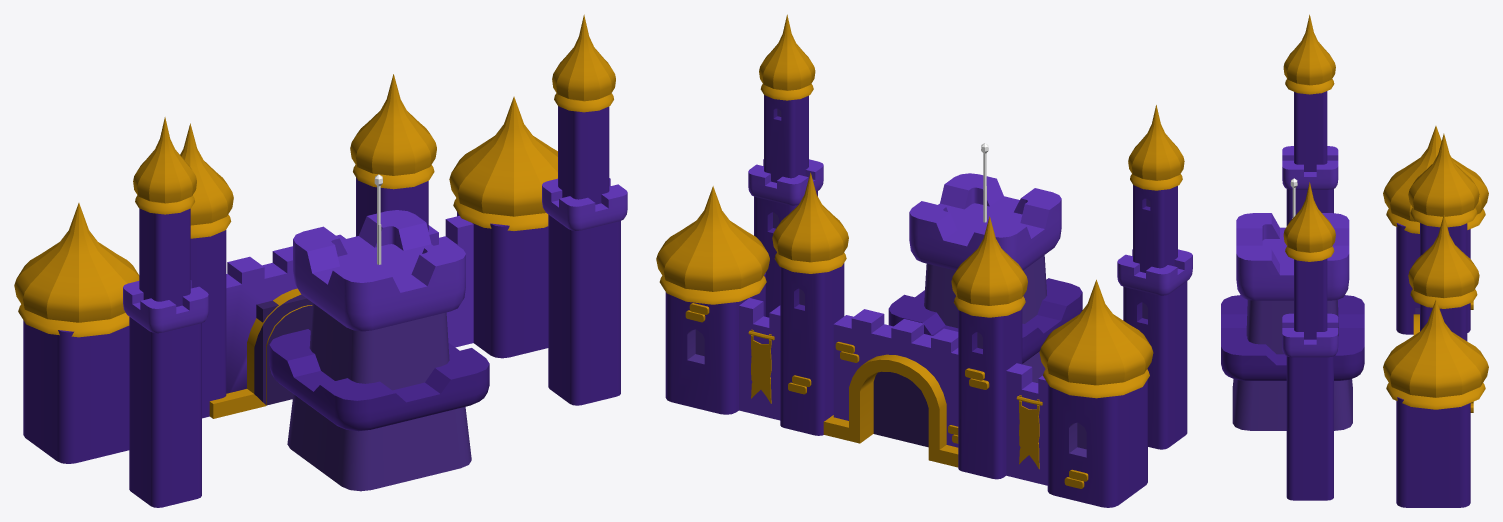
File: CubeCastle_02_3.fbx
The picture shows the model from 3 angles, left to right: view 1: azimuth 30°, elevation 25°; view 2: azimuth 150°, elevation 25°; view 3: azimuth 270°, elevation 25°; orthographic projection. The views are drawn at different scales.
Visible parts, largest first — view 1: CastleT8, CastleT8 (1), CastleT2 (2), CastleT6, CastleT6 (1), Cupol (7), CastleT2 (1), Cupol (8), CastleT1, Cupol (9), CastleT6 (6), CastleT6 (2) (+9 smaller); view 2: CastleT8, CastleT1, CastleT2 (2), CastleT6 (5), CastleT6 (6), Cupol (7), Cupol (8), CastleT2 (1), CastleT6, Cupol (10), Cupol (9), CastleT8 (1) (+12 smaller); view 3: CastleT8 (1), CastleT8, CastleT2 (1), Cupol (8), CastleT6 (1), Cupol (9), Cupol (10), Cupol (7), CastleT6 (2), CastleT6 (4), Cupol (4), Cupol (5) (+6 smaller).
Boxes of the visible parts, box(x1,y1,x2,y2) form: CastleT8: box(293, 210, 465, 390); CastleT8 (1): box(269, 329, 489, 491); CastleT2 (2): box(23, 320, 129, 463); CastleT6: box(129, 317, 201, 507); CastleT6 (1): box(548, 214, 620, 405); Cupol (7): box(14, 203, 139, 337); CastleT2 (1): box(457, 212, 548, 358); Cupol (8): box(449, 96, 557, 230); CastleT1: box(209, 234, 345, 418); Cupol (9): box(350, 74, 436, 189); CastleT6 (6): box(190, 230, 226, 418); CastleT6 (2): box(558, 106, 609, 204); CastleT8: box(909, 173, 1061, 328); CastleT1: box(823, 309, 958, 467); CastleT2 (2): box(1047, 368, 1147, 507); CastleT6 (5): box(780, 263, 844, 435); CastleT6 (6): box(958, 308, 1022, 479); Cupol (7): box(1039, 279, 1153, 398); Cupol (8): box(656, 186, 769, 304); CastleT2 (1): box(665, 273, 765, 414); CastleT6: box(1123, 281, 1187, 449); Cupol (10): box(951, 216, 1027, 317); Cupol (9): box(772, 172, 848, 273); CastleT8 (1): box(888, 278, 1082, 382); CastleT8 (1): box(1221, 295, 1364, 430); CastleT8: box(1236, 213, 1349, 354); CastleT2 (1): box(1396, 397, 1470, 507); Cupol (8): box(1383, 300, 1488, 409); CastleT6 (1): box(1286, 356, 1333, 500); Cupol (9): box(1408, 215, 1479, 308); Cupol (10): box(1408, 133, 1479, 227); Cupol (7): box(1383, 126, 1488, 233); CastleT6 (2): box(1294, 258, 1327, 339); CastleT6 (4): box(1294, 91, 1327, 171); Cupol (4): box(1283, 14, 1335, 94); Cupol (5): box(1283, 182, 1335, 261).
Bounding box in the file's own units: 23.58 × 15.58 × 12.21.
